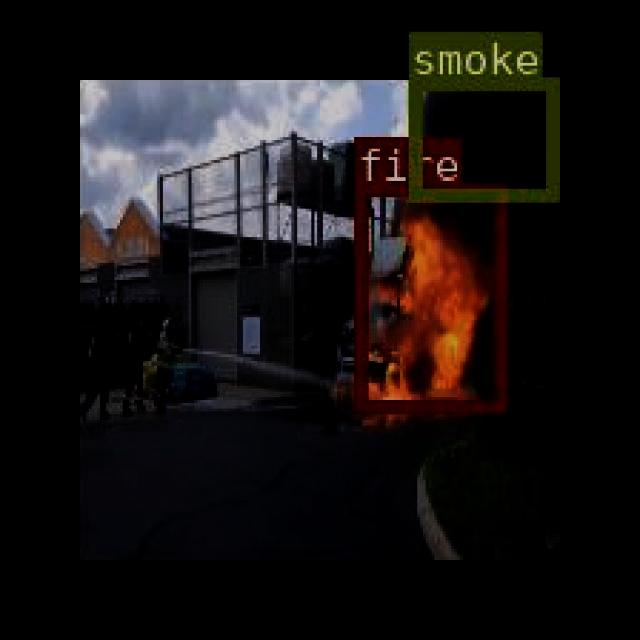fire: (352, 182, 504, 410)
smoke: (407, 76, 555, 199)
